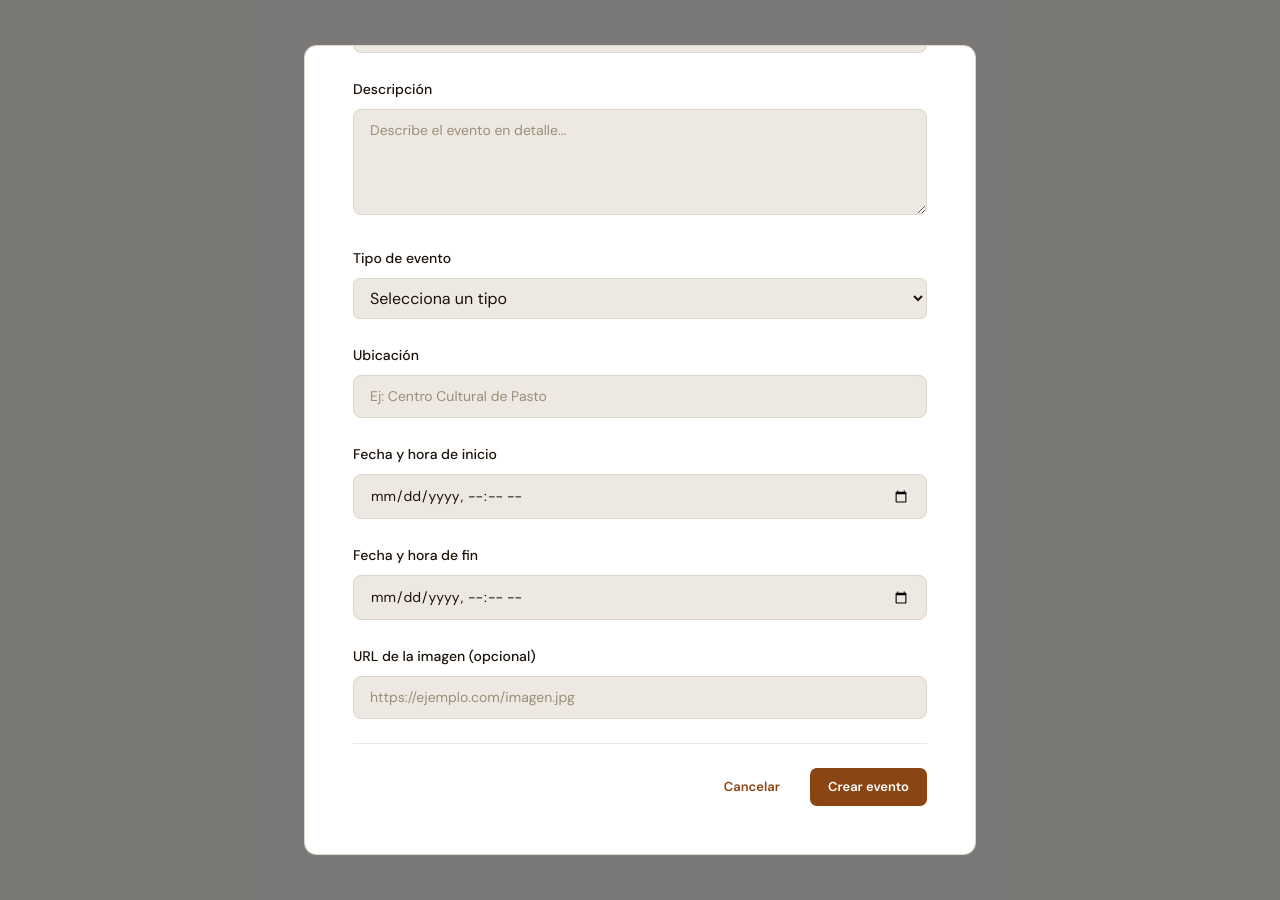
Test: EventFormModal › validates required fields before creating an event
(page scrolled)
What coordinates should you click on to do the following:
click the button "Crear evento"
I would click on:
 (868, 787)
Its box is [810,768,927,806].
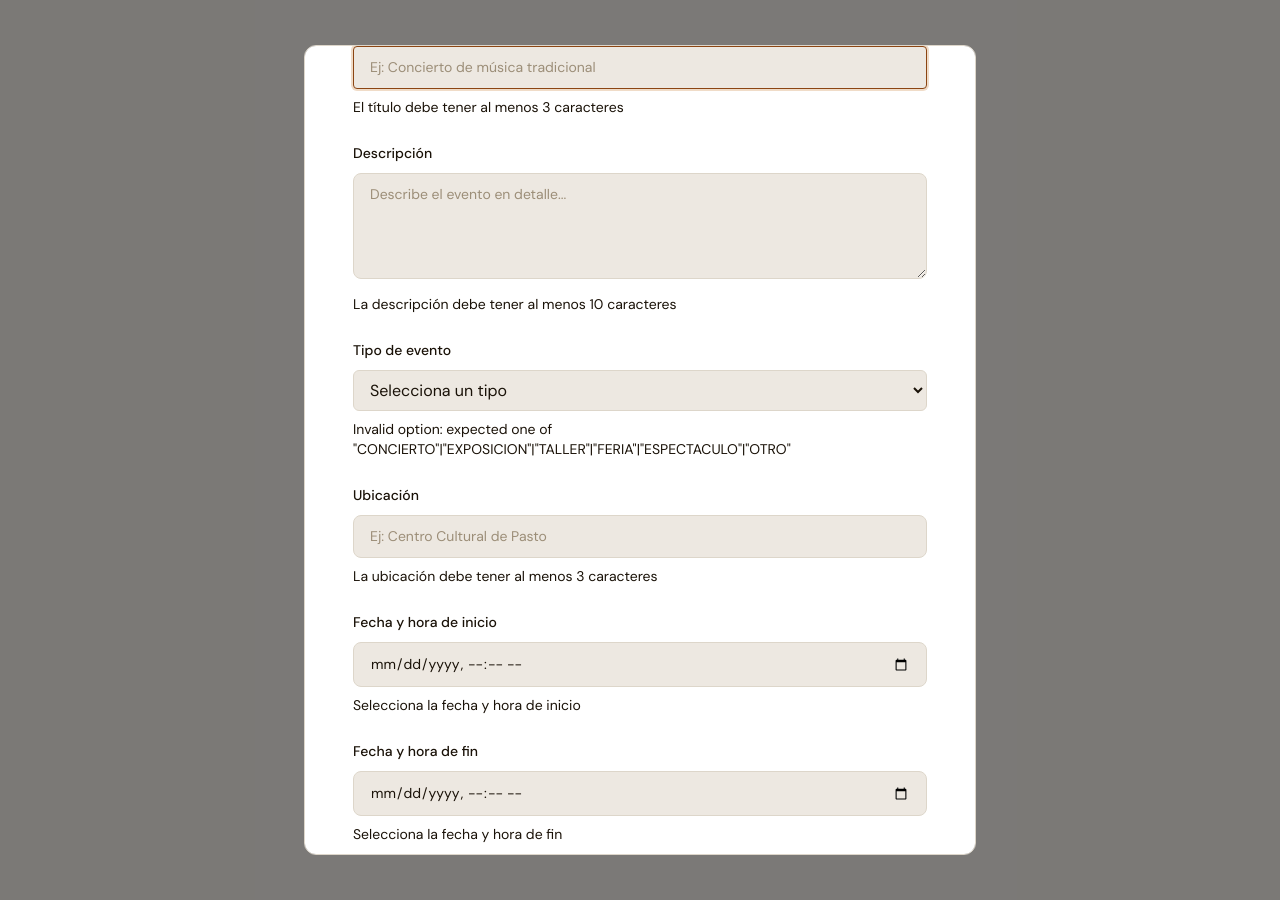
Check: the text "El título debe tener al menos 3 caracteres" is shown, box [353,98,624,116]
